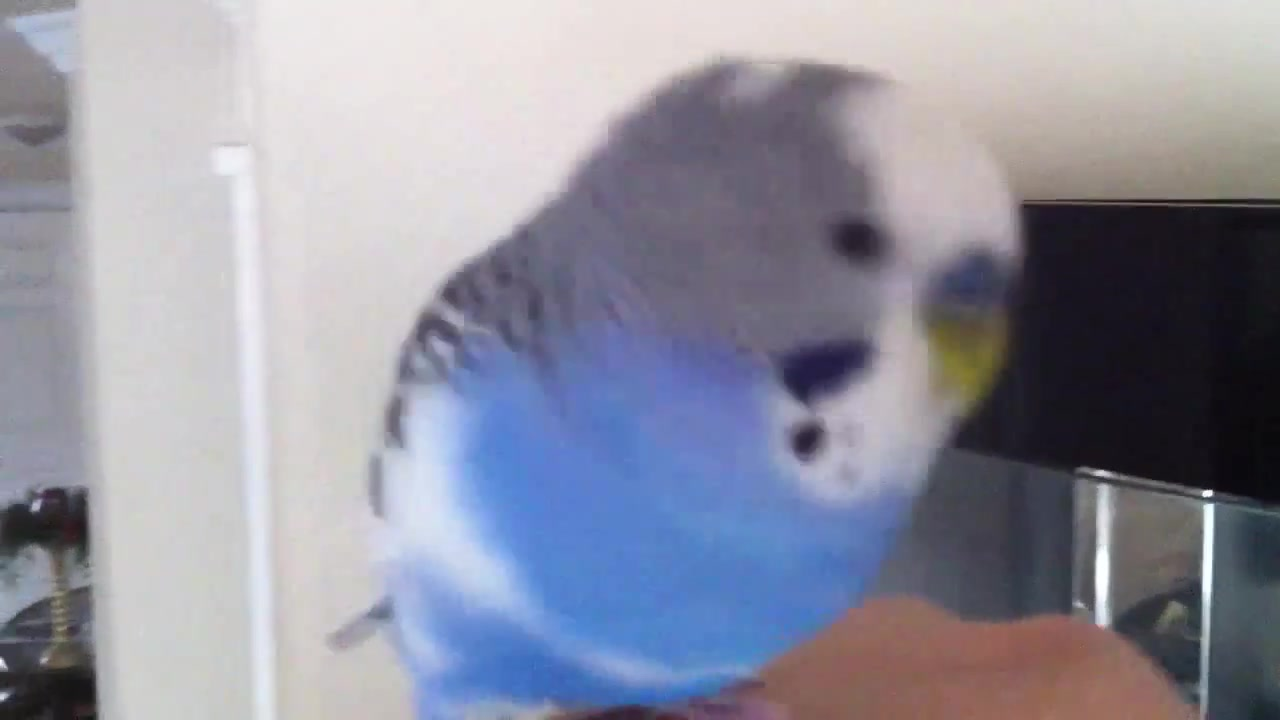bird: (319, 58, 1040, 720)
